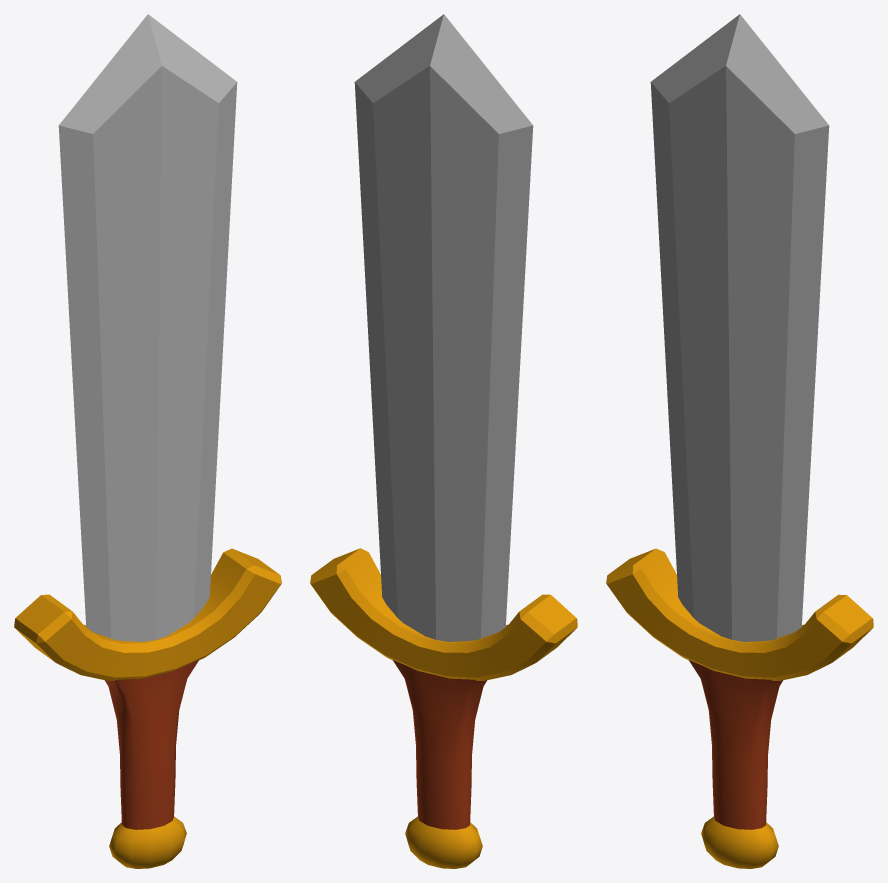
Rendered from Sword.fbx.
3 views of the same model, side by side, from view 1: azimuth 30°, elevation 25°; view 2: azimuth 150°, elevation 25°; view 3: azimuth 330°, elevation 25° (orthographic).
Visible parts, largest first — view 1: Sword; view 2: Sword; view 3: Sword.
Boxes of the visible parts, box(x1,y1,x2,y2) form: Sword: box(14, 14, 281, 868); Sword: box(310, 14, 577, 868); Sword: box(606, 14, 873, 868).
Bounding box in the file's own units: 10.36 × 34.33 × 2.24.
